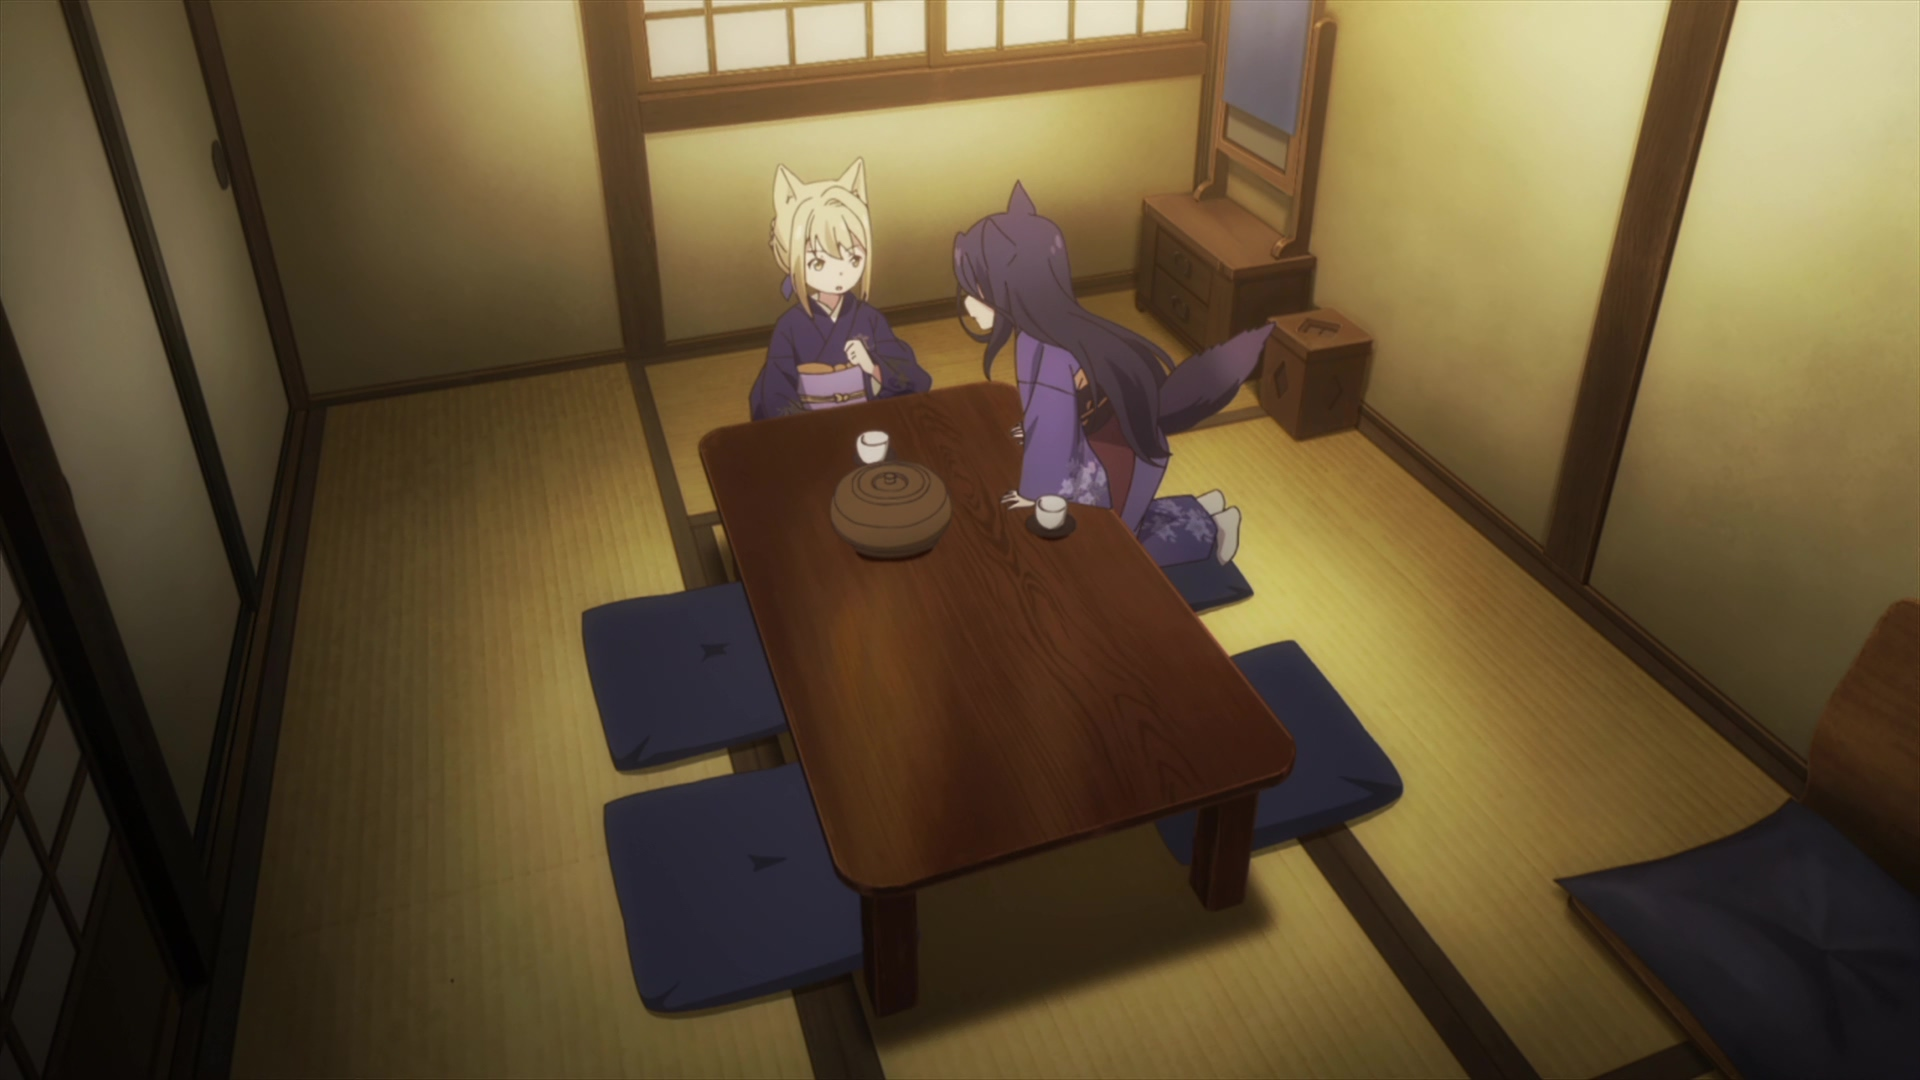桐: (748, 156, 934, 419)
皋: (951, 179, 1274, 567)
